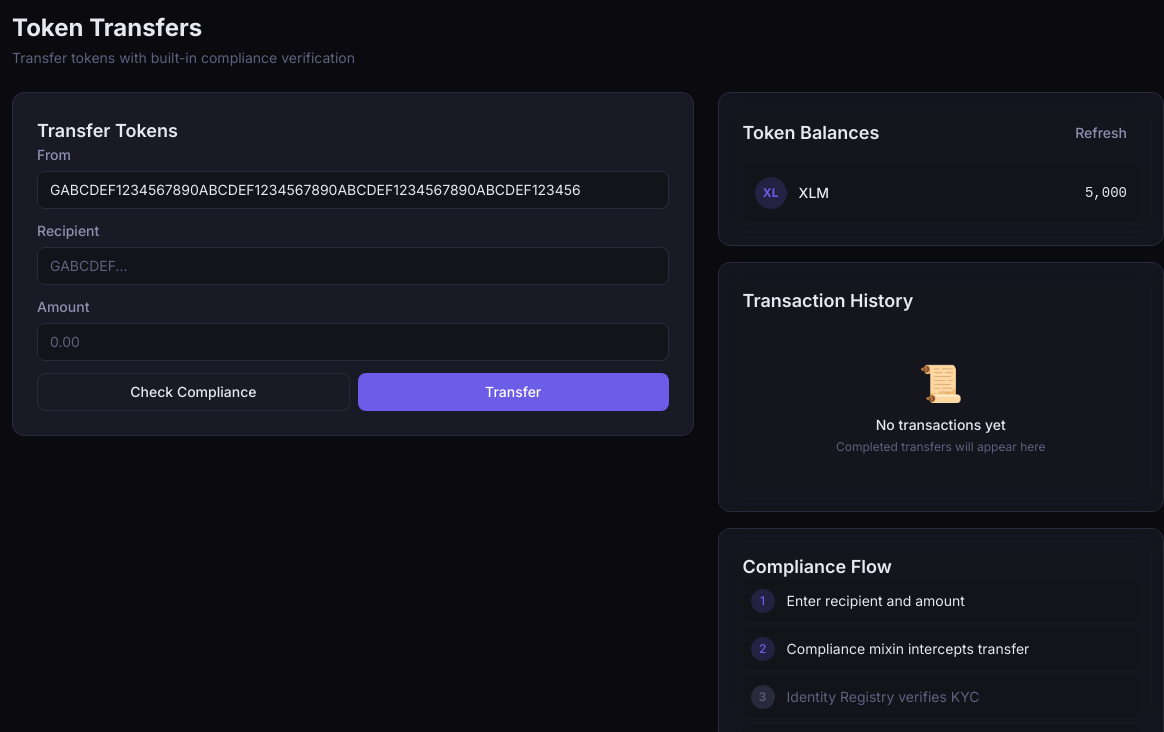
Test: TransferPage — full flow › blocks transfer when compliance fails
Step 1. Type "GRESTRICTED123" into the field labelled "Recipient" → [353, 266], box [37,247,669,285]
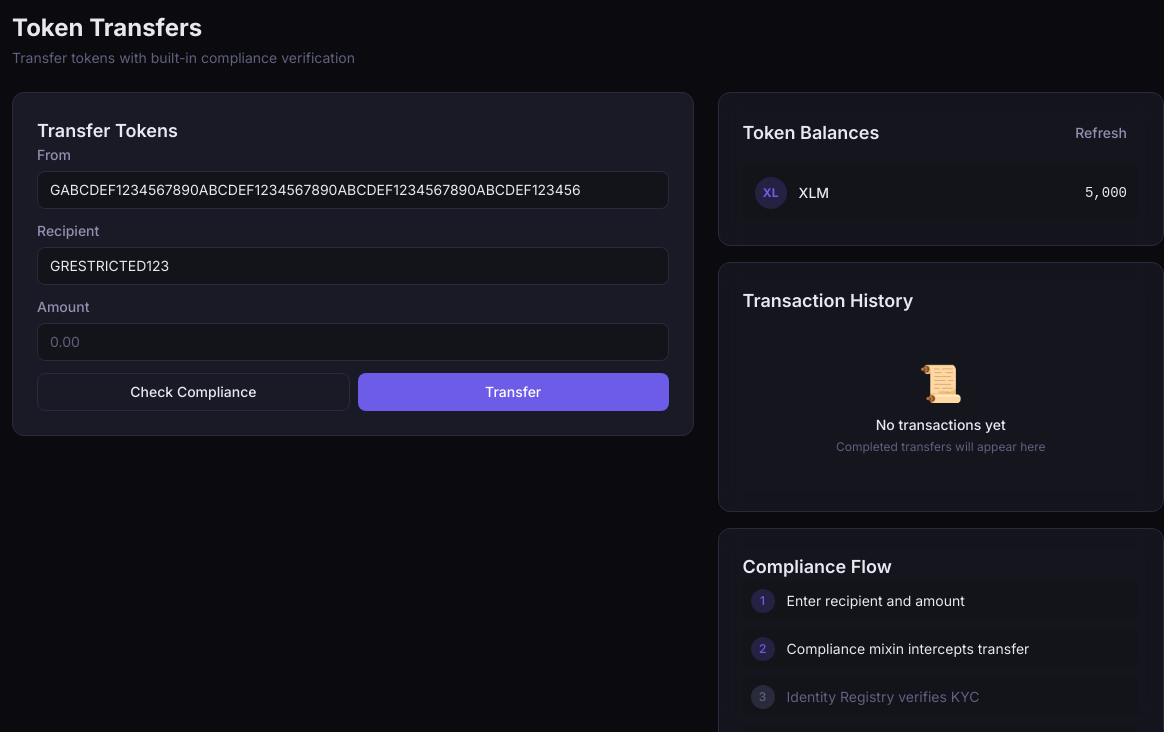
Step 2. Type "100" into the field labelled "Amount" → [353, 342], box [37,323,669,361]
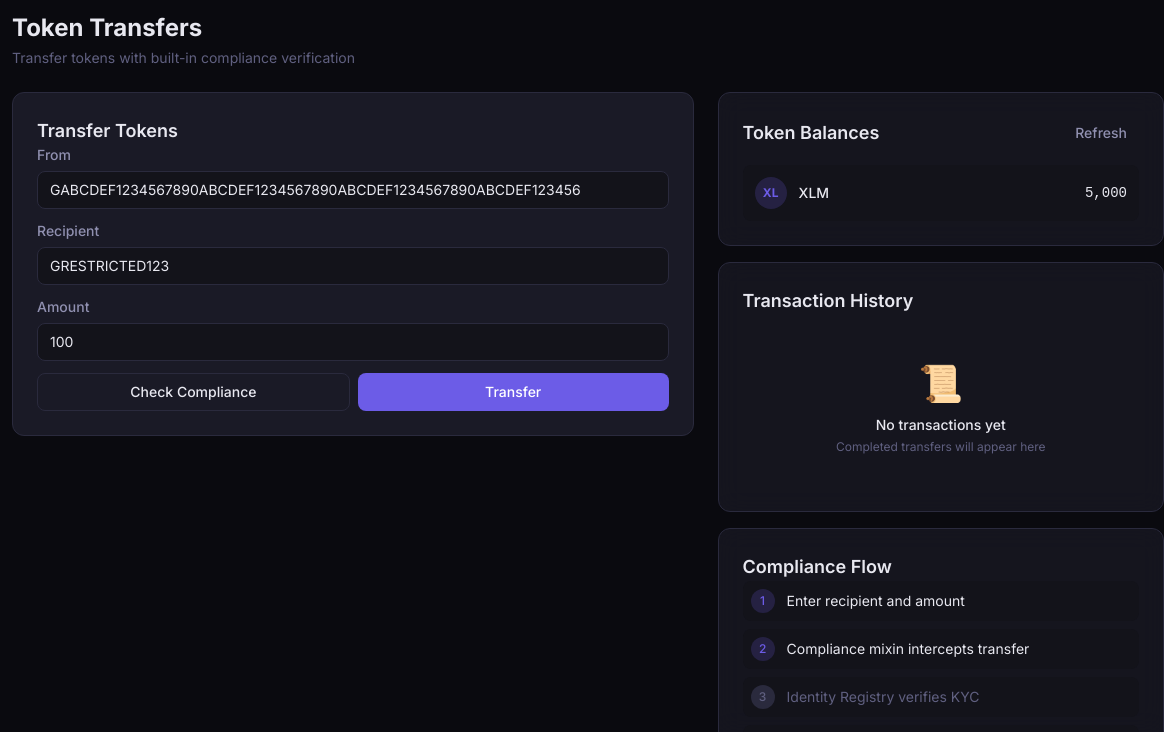
Step 3. Click the button "Check Compliance" → [193, 392], box [37,373,350,411]
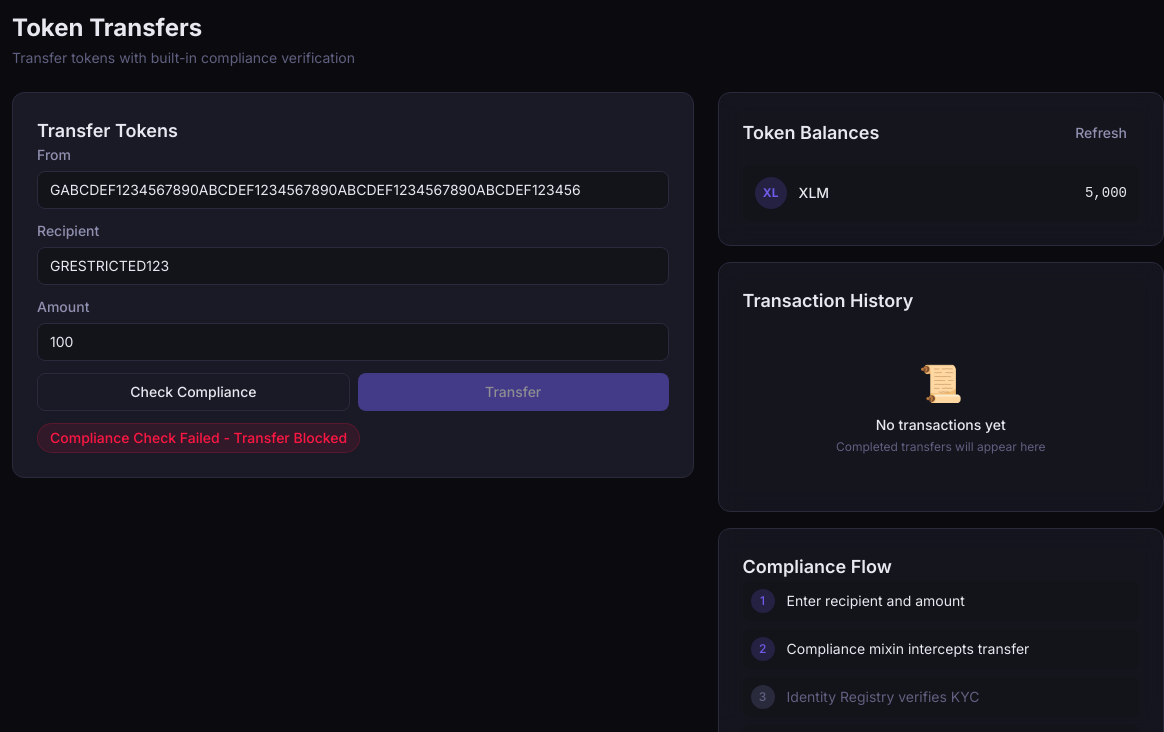
Check: the text "Compliance Check Failed - Transfer Blocked" is shown, box [37,423,360,453]
